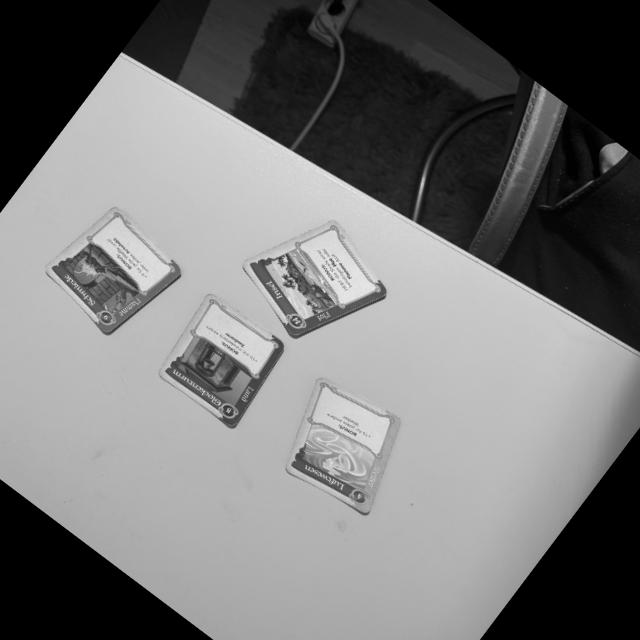Air Elemental: (282, 373, 401, 516)
Clock Tower: (154, 292, 287, 429)
Forge: (39, 204, 188, 338)
Island: (239, 218, 389, 339)
